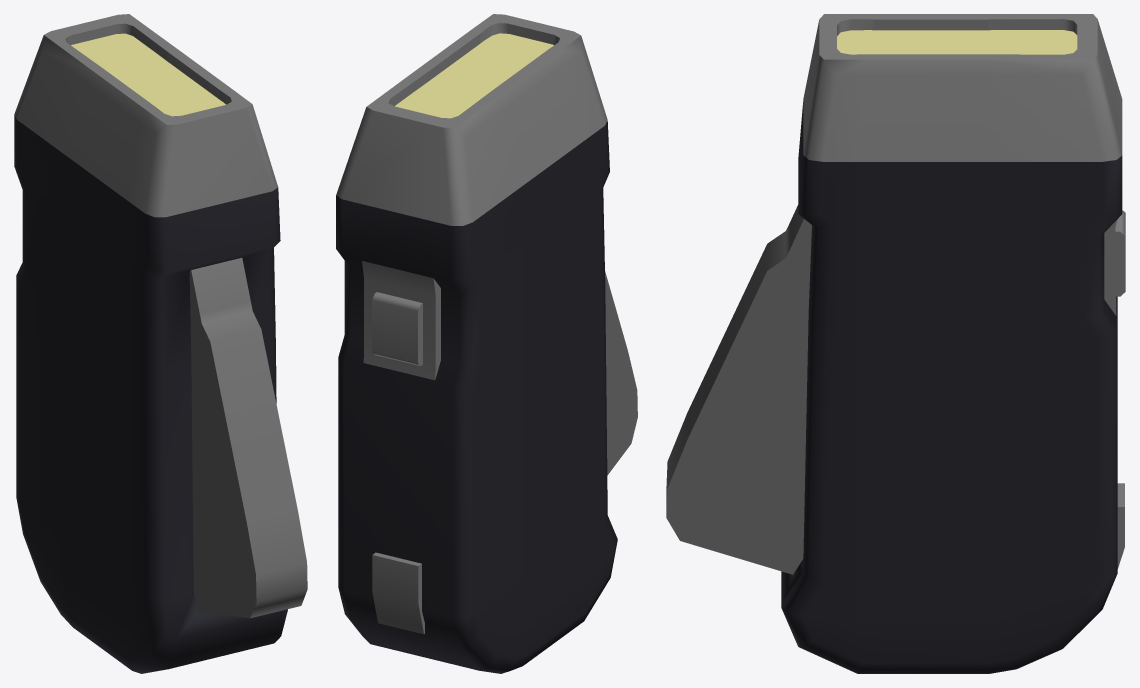
The model's file is FlashLight.fbx.
3 views of the same model, side by side, from view 1: azimuth 30°, elevation 25°; view 2: azimuth 150°, elevation 25°; view 3: azimuth 270°, elevation 25° (orthographic). The views are drawn at different scales.
Visible parts, largest first — view 1: Flashlight, Level, Light; view 2: Flashlight, Light, SwitchMount, Level, Switch, Switch1; view 3: Flashlight, Level, Light, SwitchMount, Switch1.
Boxes of the visible parts, x1,y1,x2,y2 form: Flashlight: (14, 14, 287, 673); Level: (189, 257, 307, 618); Light: (71, 33, 225, 116); Flashlight: (336, 14, 617, 673); Light: (395, 33, 553, 118); SwitchMount: (362, 261, 440, 380); Level: (605, 271, 637, 475); Switch: (372, 552, 424, 634); Switch1: (372, 292, 422, 365); Flashlight: (781, 14, 1122, 673); Level: (666, 205, 811, 574); Light: (837, 30, 1077, 54); SwitchMount: (1104, 220, 1116, 315); Switch1: (1115, 210, 1125, 296).
Bounding box in the file's own units: 21.82 × 89.22 × 61.01.
